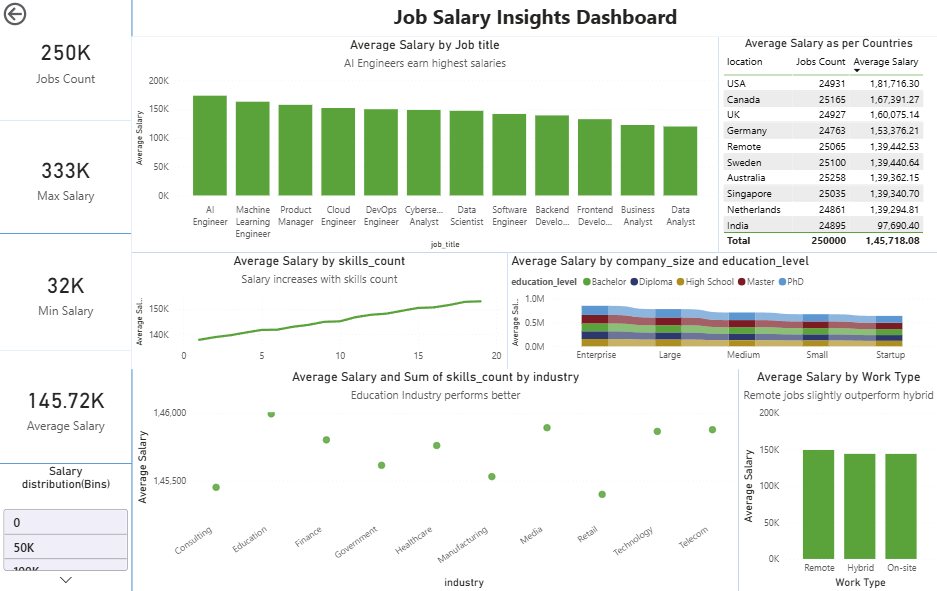

Layout of this report page (visuals, bound fields, positions):
{"tool":"powerbi","page":{"name":"Page 1","canvas":[1251,790],"ordinal":0},"visuals":[{"type":"tableEx","title":"Average Salary as per Countries","fields":{"Values":["job_salary_prediction_dataset.location","job_salary_prediction_dataset.Total Jobs","job_salary_prediction_dataset.Average Salary"]},"box":[958,49.3,293.3,289.2],"z":0},{"type":"columnChart","title":"Average Salary by Job title","fields":{"Category":["job_salary_prediction_dataset.job_title"],"Y":["job_salary_prediction_dataset.Average Salary"]},"box":[175.4,49.3,782.6,289.2],"z":1000},{"type":"lineChart","fields":{"Category":["job_salary_prediction_dataset.skills_count"],"Y":["job_salary_prediction_dataset.Average Salary"]},"box":[175,338.3,501.7,155],"z":2000},{"type":"columnChart","fields":{"Category":["job_salary_prediction_dataset.Work Type"],"Y":["job_salary_prediction_dataset.Average Salary"]},"box":[985.4,493.4,265.9,296],"z":3000},{"type":"card","fields":{"Values":["job_salary_prediction_dataset.Max Salary"]},"box":[0,161.7,175.4,152.1],"z":4000},{"type":"card","fields":{"Values":["job_salary_prediction_dataset.Average Salary"]},"box":[0,468.7,175.4,150.8],"z":5000},{"type":"card","fields":{"Values":["job_salary_prediction_dataset.Min Salary"]},"box":[0,313.8,175.4,154.9],"z":6000},{"type":"card","fields":{"Values":["job_salary_prediction_dataset.Total Jobs"]},"box":[0,0,175.4,161.7],"z":7000},{"type":"textbox","box":[175.4,0,1075.8,49.3],"z":8000},{"type":"cardVisual","title":"Salary distribution(Bins)","fields":{"Rows":["job_salary_prediction_dataset.salary (bins)"]},"box":[0,619.5,175.4,169.9],"z":9000},{"type":"scatterChart","fields":{"X":["job_salary_prediction_dataset.industry"],"Y":["job_salary_prediction_dataset.Average Salary"]},"box":[175.4,493.4,810,296],"z":10000},{"type":"actionButton","box":[0,0,100,40],"z":11000},{"type":"ribbonChart","fields":{"Category":["job_salary_prediction_dataset.company_size"],"Y":["job_salary_prediction_dataset.Average Salary"],"Series":["job_salary_prediction_dataset.education_level"]},"box":[676.7,338.3,575,155],"z":12000},{"type":"slicer","fields":{"Values":["job_salary_prediction_dataset.job_title","job_salary_prediction_dataset.remote_work"]},"box":[176.7,0,300,50],"z":12001}]}

Visuals, with their boxes on the page's 1251x790 design canvas (x1, y1, x2, y2). These are canvas units, not pixel positions in the 937x591 screenshot, which may show the page scaled, cropped or inside an application window:
"Average Salary as per Countries" tableEx: bbox(958, 49, 1251, 338)
"Average Salary by Job title" columnChart: bbox(175, 49, 958, 338)
lineChart - job_salary_prediction_dataset.skills_count x job_salary_prediction_dataset.Average Salary: bbox(175, 338, 677, 493)
columnChart - job_salary_prediction_dataset.Work Type x job_salary_prediction_dataset.Average Salary: bbox(985, 493, 1251, 789)
card - job_salary_prediction_dataset.Max Salary: bbox(0, 162, 175, 314)
card - job_salary_prediction_dataset.Average Salary: bbox(0, 469, 175, 620)
card - job_salary_prediction_dataset.Min Salary: bbox(0, 314, 175, 469)
card - job_salary_prediction_dataset.Total Jobs: bbox(0, 0, 175, 162)
textbox: bbox(175, 0, 1251, 49)
"Salary distribution(Bins)" cardVisual: bbox(0, 620, 175, 789)
scatterChart - job_salary_prediction_dataset.industry x job_salary_prediction_dataset.Average Salary: bbox(175, 493, 985, 789)
actionButton: bbox(0, 0, 100, 40)
ribbonChart - job_salary_prediction_dataset.company_size x job_salary_prediction_dataset.Average Salary: bbox(677, 338, 1252, 493)
slicer - job_salary_prediction_dataset.job_title x job_salary_prediction_dataset.remote_work: bbox(177, 0, 477, 50)
